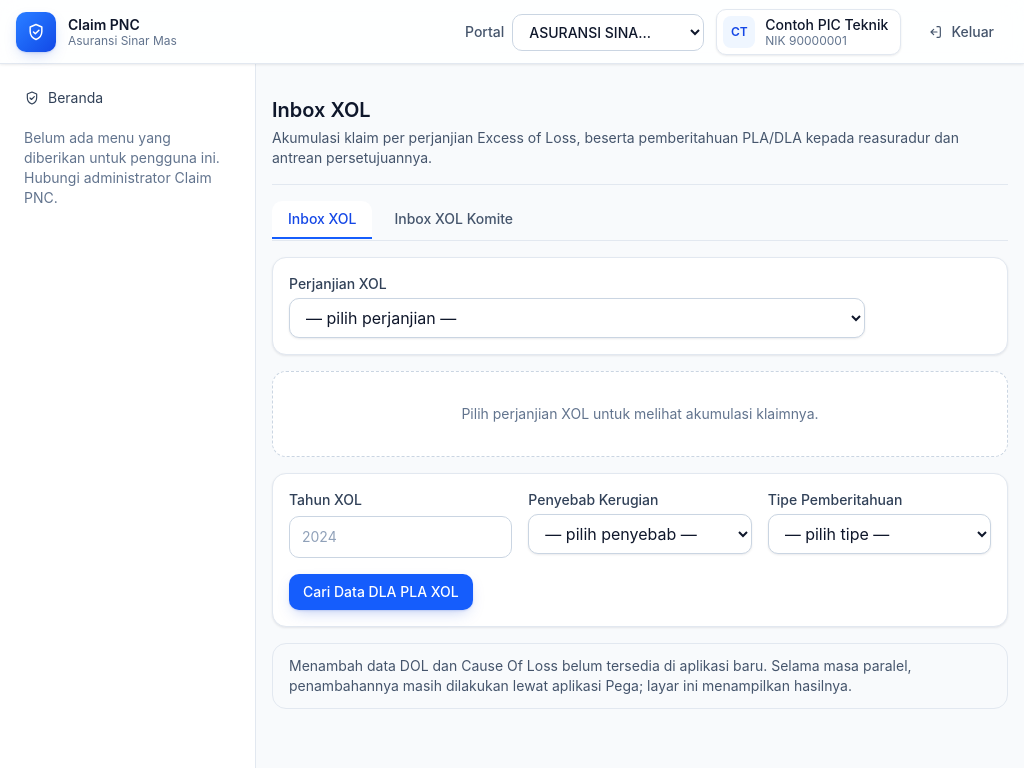
Test case: tab Inbox XOL › menolak menampilkan nilai baris treaty inward yang kursnya tidak ada
Select "2024 — Fire, Marine Cargo (kurs 15.500)" in the dropdown labelled "Perjanjian XOL" at (577, 318), box [289, 298, 865, 338]
(page scrolled)
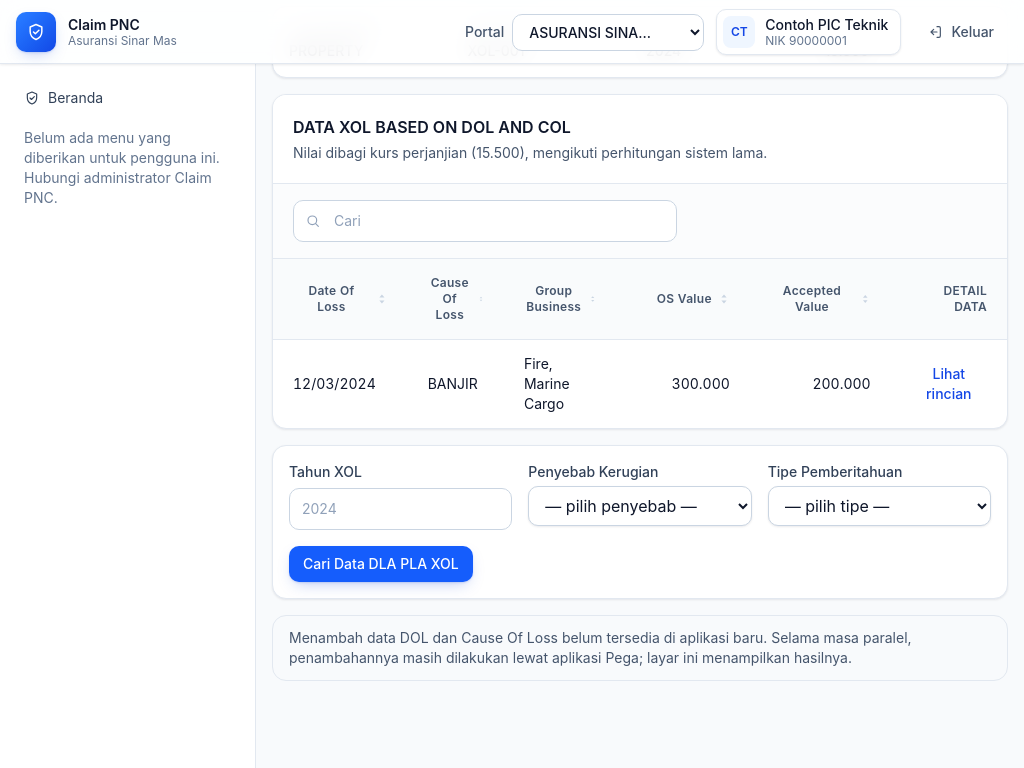
Now the text "12/03/2024" is shown, box [293, 375, 376, 392]
Click the button "Lihat rincian" at (949, 384), box [911, 360, 987, 408]
(page scrolled)
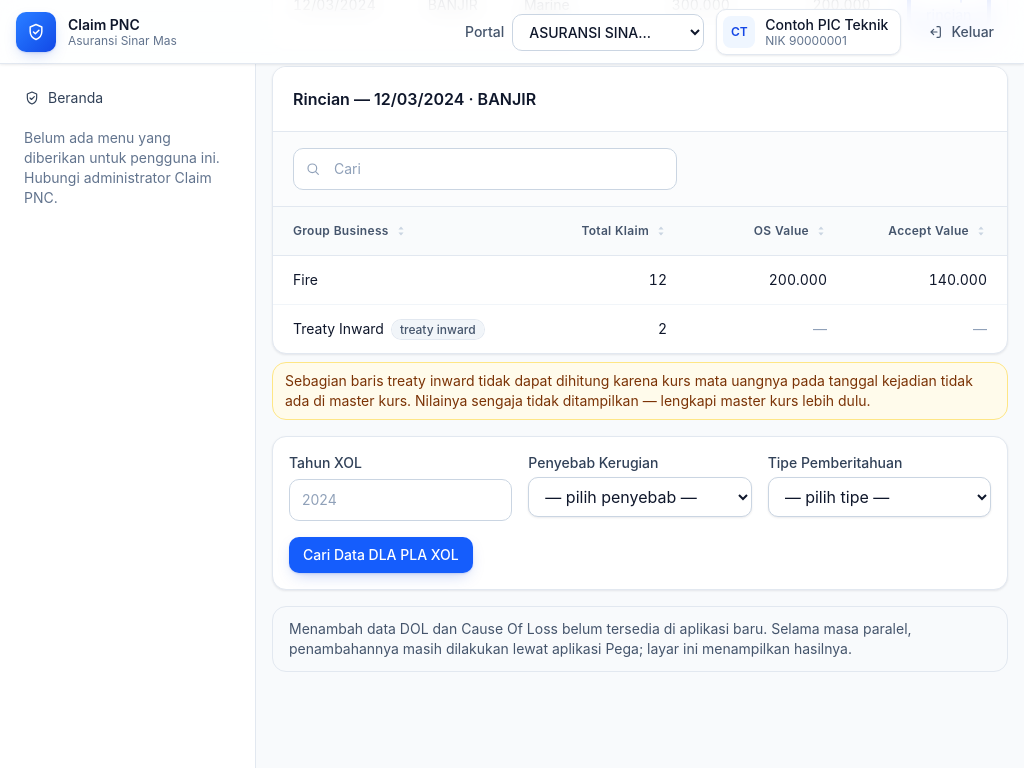
Now the heading "Rincian — 12/03/2024 · BANJIR" is shown, box [293, 87, 536, 111]
Now the text "2" is shown, box [658, 320, 667, 337]
Now the text "tidak dapat dihitung karena kurs mata uangnya" is shown, box [285, 372, 973, 409]
